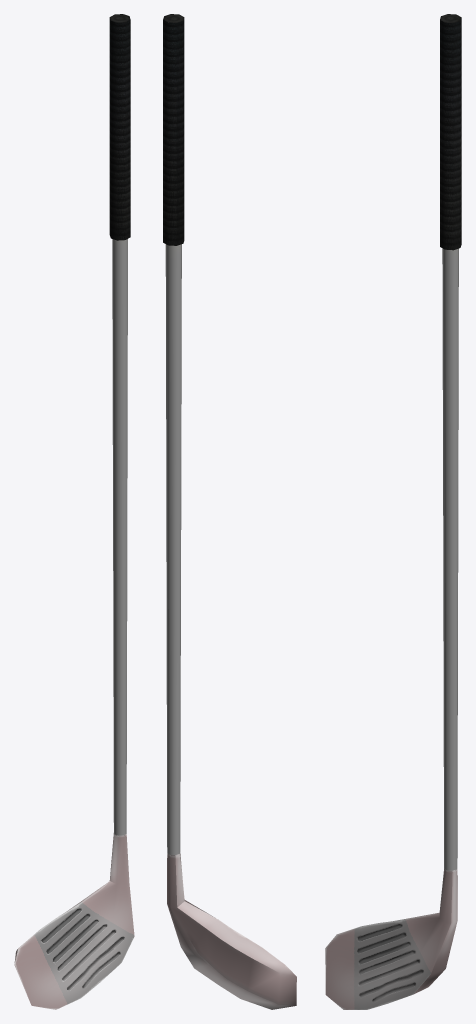
Rendered from Iron_37_34_61.FBX.
The picture shows the model from 3 angles, left to right: view 1: azimuth 30°, elevation 25°; view 2: azimuth 150°, elevation 25°; view 3: azimuth 330°, elevation 25°; orthographic projection. The views are drawn at different scales.
Visible parts, largest first — view 1: Iron/37/34/61; view 2: Iron/37/34/61; view 3: Iron/37/34/61.
Boxes of the visible parts, x1=… form: Iron/37/34/61: x1=14, y1=14, x2=134, y2=1009; Iron/37/34/61: x1=163, y1=14, x2=296, y2=1009; Iron/37/34/61: x1=325, y1=14, x2=461, y2=1009.
Bounding box in the file's own units: 5.24 × 39.19 × 1.93.
